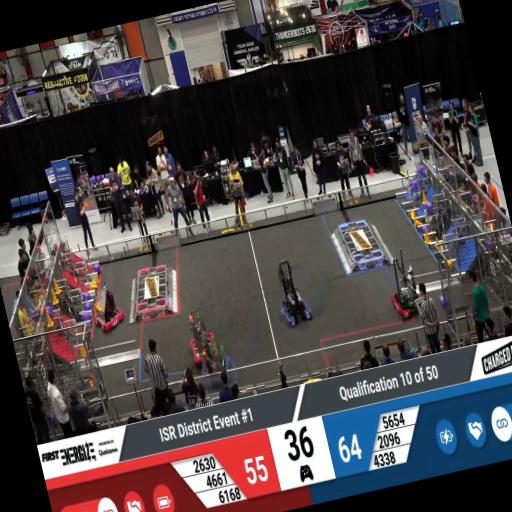robot: (382, 263, 427, 324), (274, 270, 316, 332), (86, 284, 128, 338), (198, 344, 240, 392), (73, 364, 111, 416), (182, 314, 220, 364)
